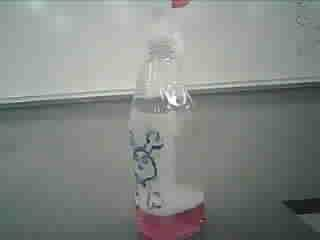hazard: (129, 0, 208, 240)
